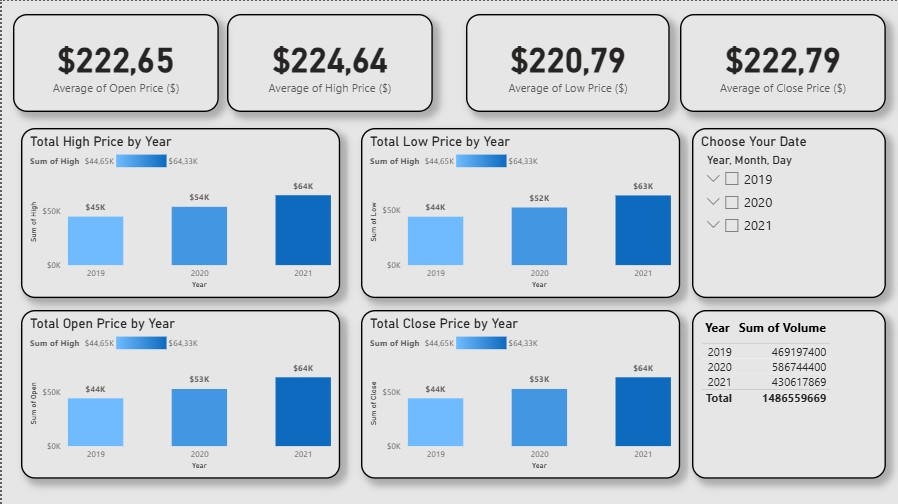

The dashboard page shown, as its layout file describes it:
{"tool":"powerbi","page":{"name":"Page 2","canvas":[1280,720],"ordinal":1},"visuals":[{"type":"columnChart","title":"Total High Price by Year","fields":{"Category":["Accenture_stock_history.Date.Variation.Date Hierarchy.Year"],"Y":["Sum(Accenture_stock_history.High)"]},"box":[27.1,181.4,455.7,242.9],"z":0},{"type":"columnChart","title":"Total Low Price by Year","fields":{"Category":["Accenture_stock_history.Date.Variation.Date Hierarchy.Year"],"Y":["Sum(Accenture_stock_history.Low)"]},"box":[512.9,181.4,455.7,242.9],"z":1000},{"type":"columnChart","title":"Total Open Price by Year","fields":{"Category":["Accenture_stock_history.Date.Variation.Date Hierarchy.Year"],"Y":["Sum(Accenture_stock_history.Open)"]},"box":[27.1,441.4,455.7,241.4],"z":2000},{"type":"columnChart","title":"Total Close Price by Year","fields":{"Category":["Accenture_stock_history.Date.Variation.Date Hierarchy.Year"],"Y":["Sum(Accenture_stock_history.Close)"]},"box":[512.9,441.4,455.7,241.4],"z":3000},{"type":"card","fields":{"Values":["Avg(Accenture_stock_history.Open)"]},"box":[15.7,18.6,294.3,140],"z":4000},{"type":"card","fields":{"Values":["Avg(Accenture_stock_history.Close)"]},"box":[968.6,18.6,294.3,140],"z":4001},{"type":"card","fields":{"Values":["Avg(Accenture_stock_history.High)"]},"box":[321.4,18.6,294.3,140],"z":4002},{"type":"card","fields":{"Values":["Avg(Accenture_stock_history.Low)"]},"box":[662.9,18.6,291.4,140],"z":4003},{"type":"slicer","title":"Choose Your Date","fields":{"Values":["Accenture_stock_history.Date.Variation.Date Hierarchy.Year","Accenture_stock_history.Date.Variation.Date Hierarchy.Month","Accenture_stock_history.Date.Variation.Date Hierarchy.Day"]},"box":[985.7,181.4,277.1,242.9],"z":4004},{"type":"tableEx","fields":{"Values":["Accenture_stock_history.Date.Variation.Date Hierarchy.Year","Sum(Accenture_stock_history.Volume)"]},"box":[985.7,441.4,277.1,241.4],"z":4005}]}

Visuals, with their boxes in screenshot pixels (x1, y1, x2, y2), scaled from the page's 1280x720 canvas onto the 898x504 screenshot:
"Total High Price by Year" columnChart: [x1=19, y1=127, x2=339, y2=297]
"Total Low Price by Year" columnChart: [x1=360, y1=127, x2=680, y2=297]
"Total Open Price by Year" columnChart: [x1=19, y1=309, x2=339, y2=478]
"Total Close Price by Year" columnChart: [x1=360, y1=309, x2=680, y2=478]
card - Avg(Accenture_stock_history.Open): [x1=11, y1=13, x2=217, y2=111]
card - Avg(Accenture_stock_history.Close): [x1=680, y1=13, x2=886, y2=111]
card - Avg(Accenture_stock_history.High): [x1=225, y1=13, x2=432, y2=111]
card - Avg(Accenture_stock_history.Low): [x1=465, y1=13, x2=670, y2=111]
"Choose Your Date" slicer: [x1=692, y1=127, x2=886, y2=297]
tableEx - Accenture_stock_history.Date.Variation.Date Hierarchy.Year x Sum(Accenture_stock_history.Volume): [x1=692, y1=309, x2=886, y2=478]
